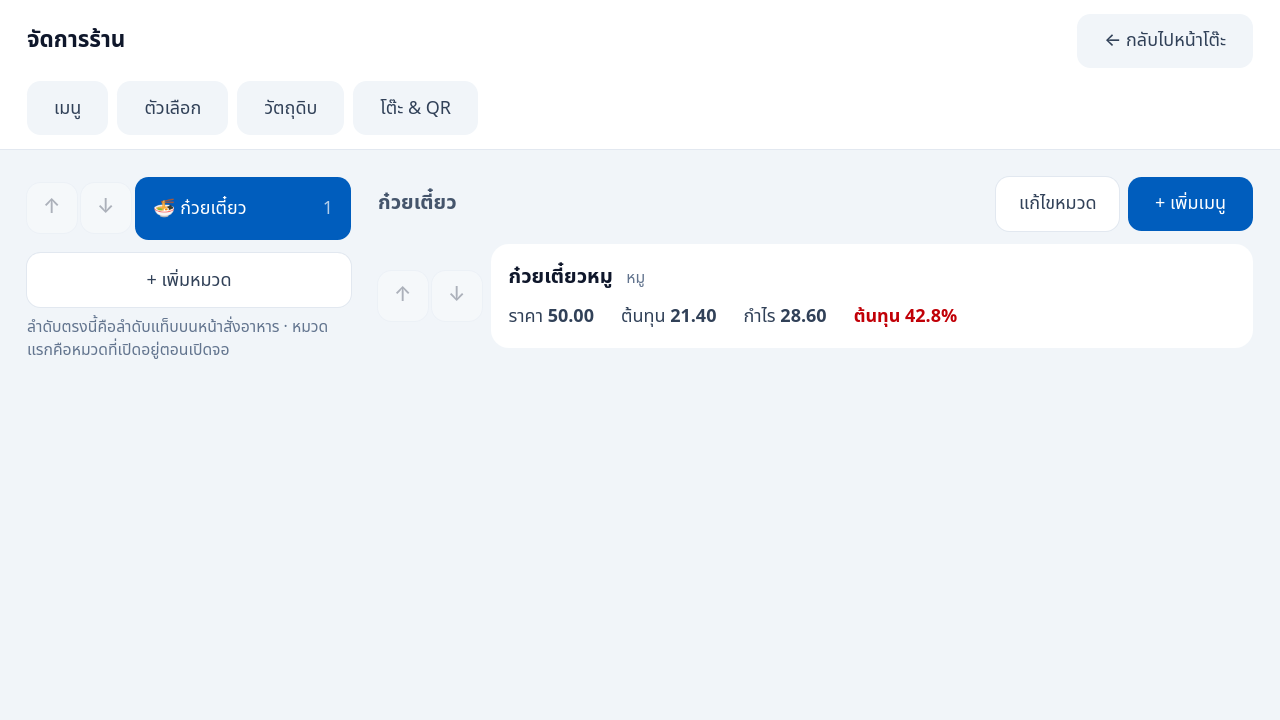
Test: when the server refuses › shows the sentence the server sent rather than a generic one
The image size is (1280, 720).
Expected: the navigation bar "หมวด" is shown, [27, 176, 351, 361]
Click the button "ก๋วยเตี๋ยวหมู".
click(561, 277)  # box [490, 244, 1253, 348]
(page scrolled)
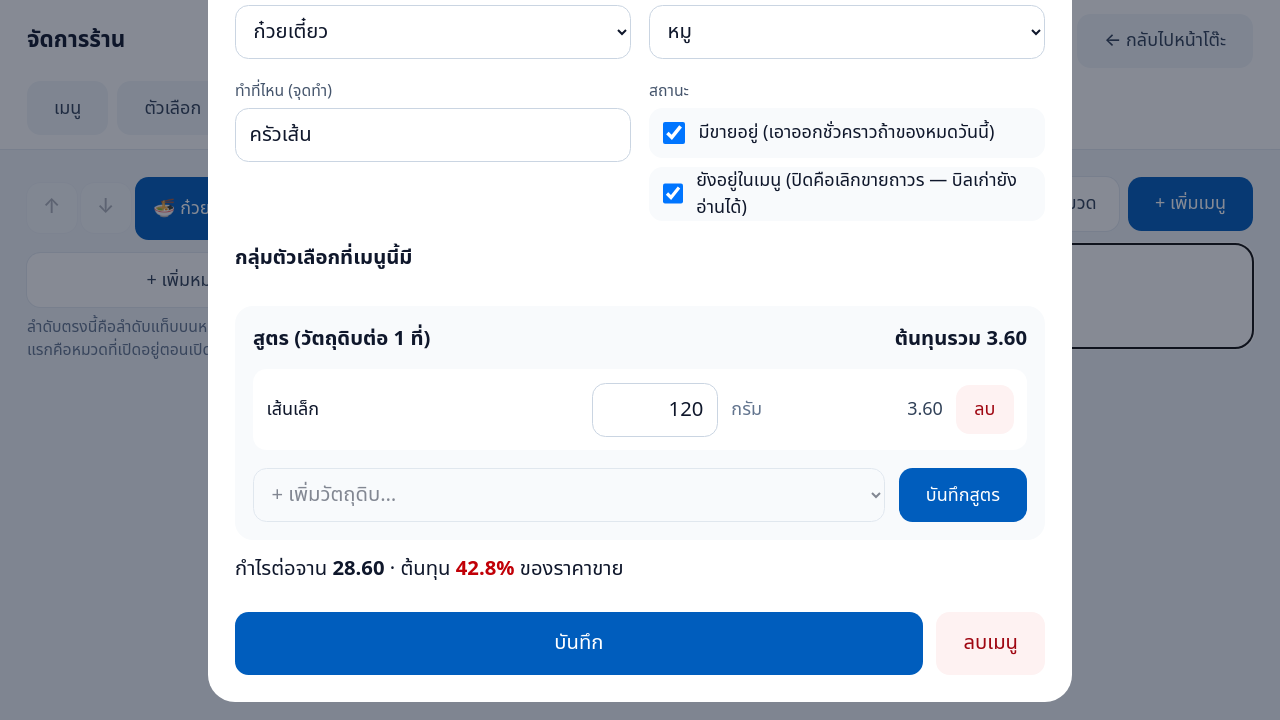
Click the button "บันทึก".
click(579, 644)  # box [235, 612, 923, 675]
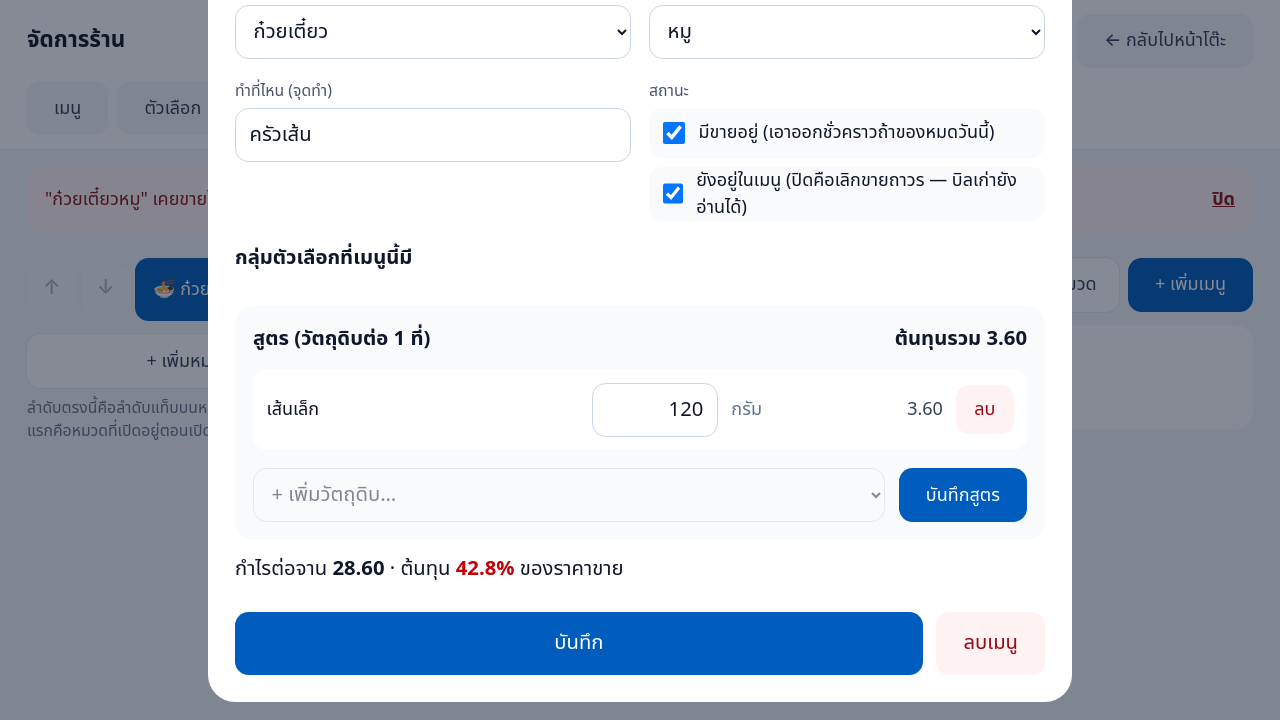
Expected: the message shows "ใช้ \"เลิกขาย\" แทน", [45, 186, 523, 212]
